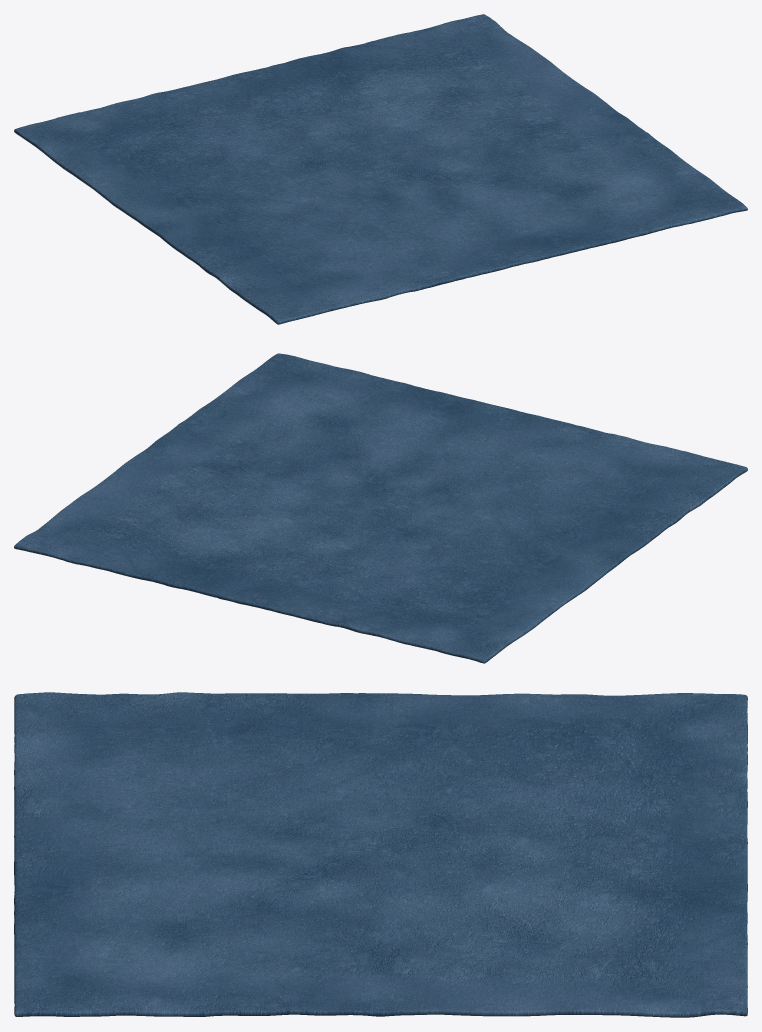
3 renders of one model, top to bottom at view 1: azimuth 30°, elevation 25°; view 2: azimuth 150°, elevation 25°; view 3: azimuth 270°, elevation 25°, orthographic. The views are drawn at different scales.
Visible parts, largest first — view 1: Item_Beige Carpet; view 2: Item_Beige Carpet; view 3: Item_Beige Carpet.
Part boxes in pixels (bbox=[...]): Item_Beige Carpet: bbox=[14, 14, 747, 324]; Item_Beige Carpet: bbox=[14, 353, 747, 663]; Item_Beige Carpet: bbox=[14, 692, 747, 1017].
Size of the model in its own units: 3.4 by 0.0394 by 3.3.
1 material, 1 textured.
